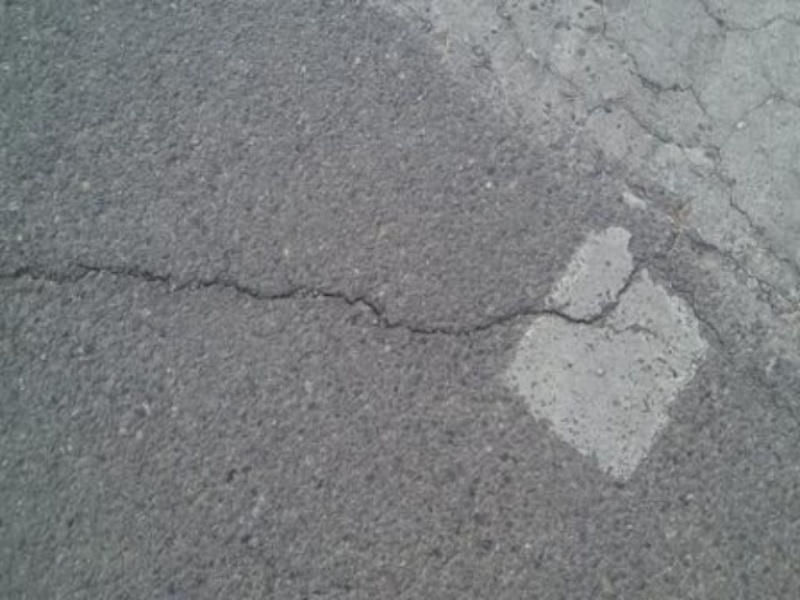crack: (13, 203, 694, 389)
